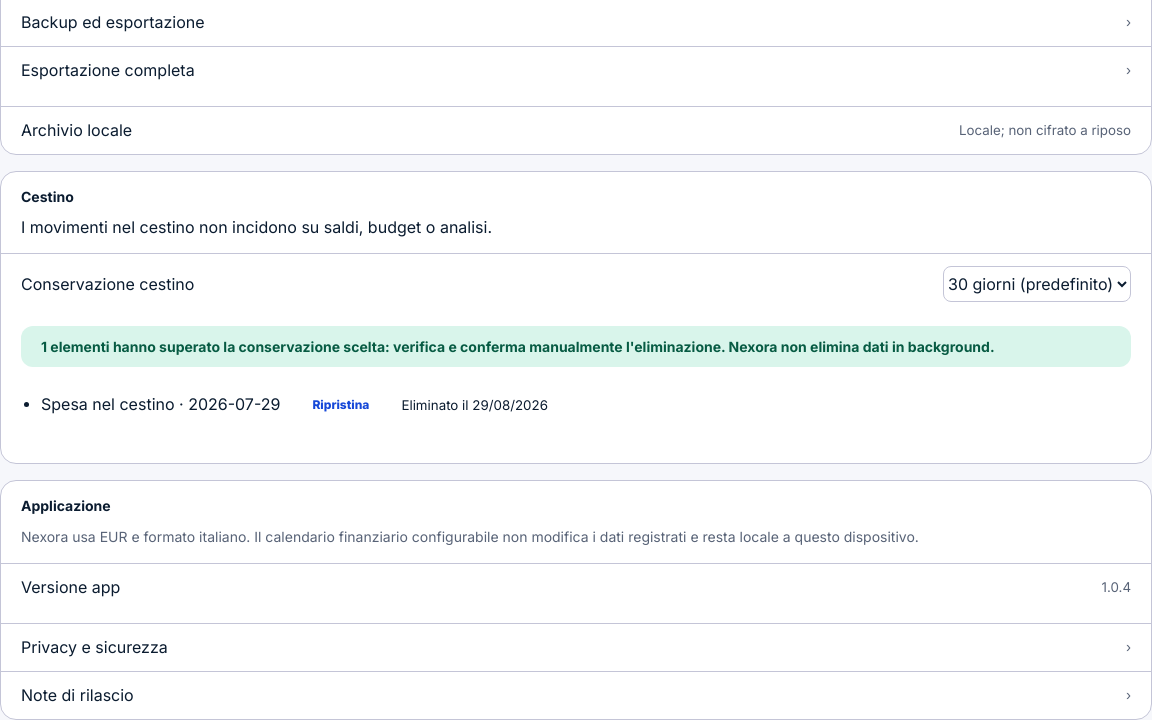
Scenario: SettingsPage destructive flows › mostra un errore accessibile se il ripristino non riesce
(page scrolled)
Click the button "Ripristina" at (341, 404), box [304,382,377,426]
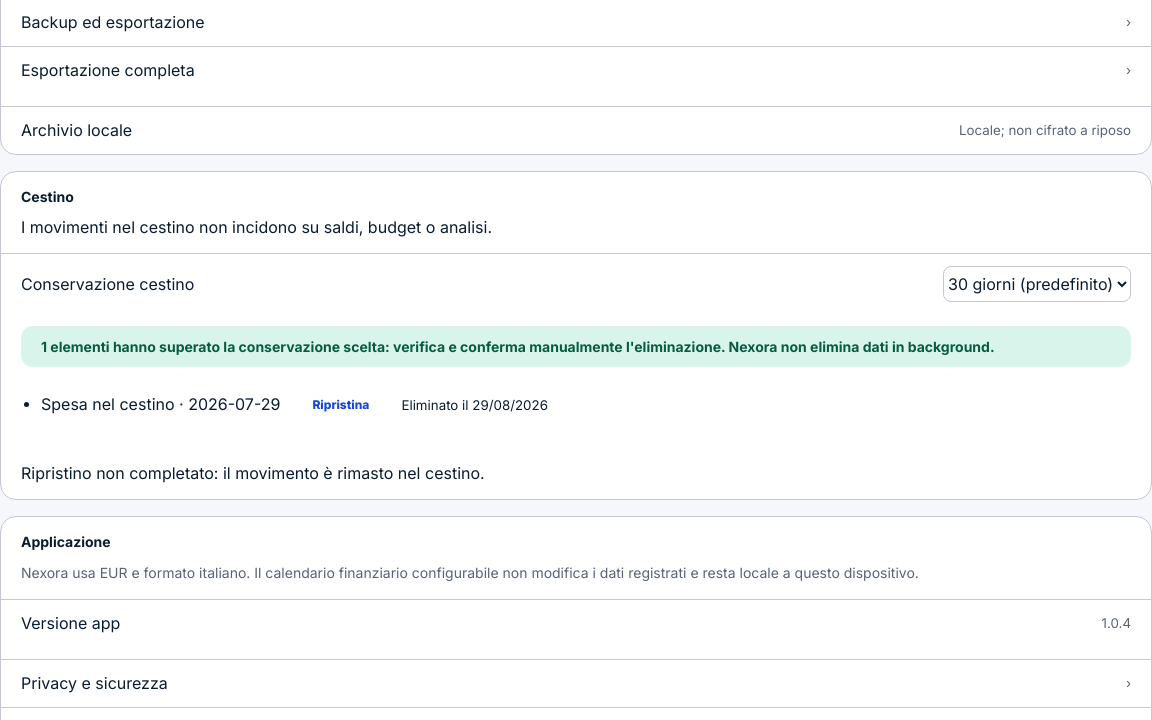
Check: the text "Spesa nel cestino · 2026-07-29" is shown, box [41,393,280,413]
Check: the message shows "Ripristino non completato", box [21,462,485,482]
